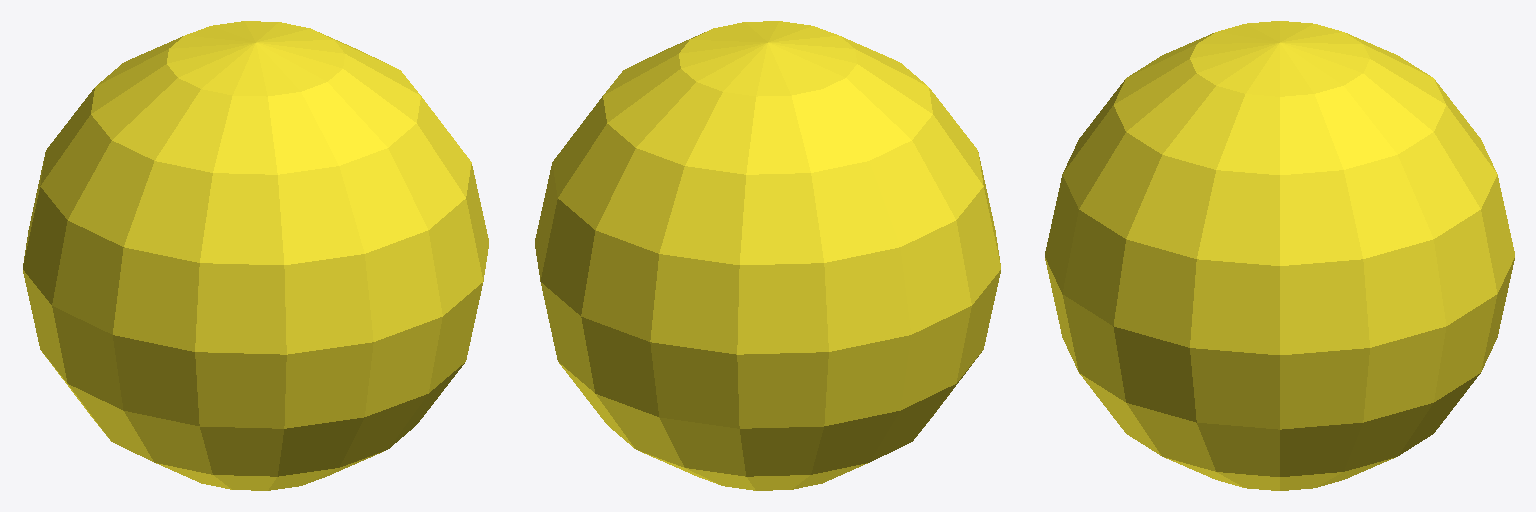
The picture shows the model from 3 angles: view 1: azimuth 30°, elevation 25°; view 2: azimuth 150°, elevation 25°; view 3: azimuth 270°, elevation 25°; orthographic projection.
Parts seen in each view (by area): view 1: 球; view 2: 球; view 3: 球.
Part boxes in pixels (left/top/right/bottom): 球: left=23, top=21, right=488, bottom=490; 球: left=535, top=21, right=1000, bottom=490; 球: left=1045, top=21, right=1514, bottom=490.
Size of the model in its own units: 3 by 3 by 3.
Materials: 1 (1 with a texture image).